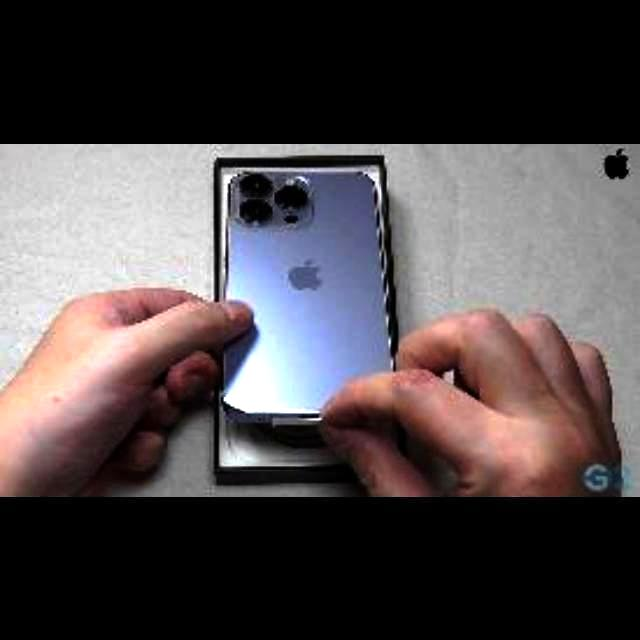lens_back: (237, 198, 274, 227), (273, 183, 309, 212), (238, 172, 275, 199)
phone: (222, 169, 392, 425)
